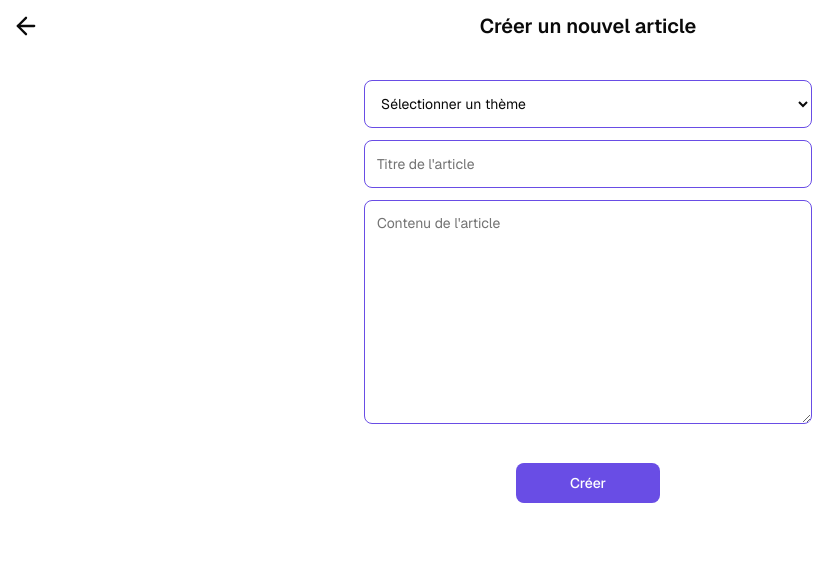
Test: CreateArticleForm › affiche une erreur lorsque le CSRF est refusé
Select "JavaScript" in the dropdown named "thème de l'article" at [588, 104], box x1=364 y1=80 x2=812 y2=128
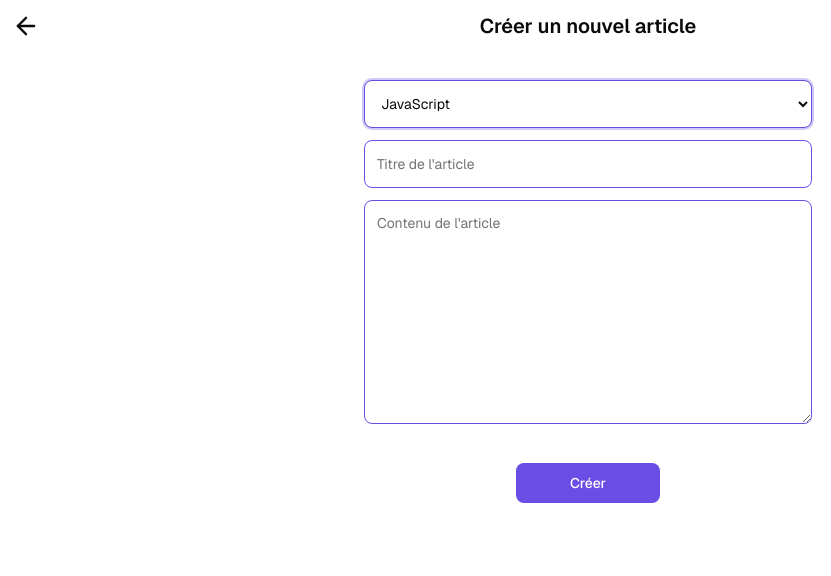
Type "Pourquoi utiliser TypeScript ?" into the field labelled "Titre de l'article" at [588, 164], box x1=364 y1=140 x2=812 y2=188
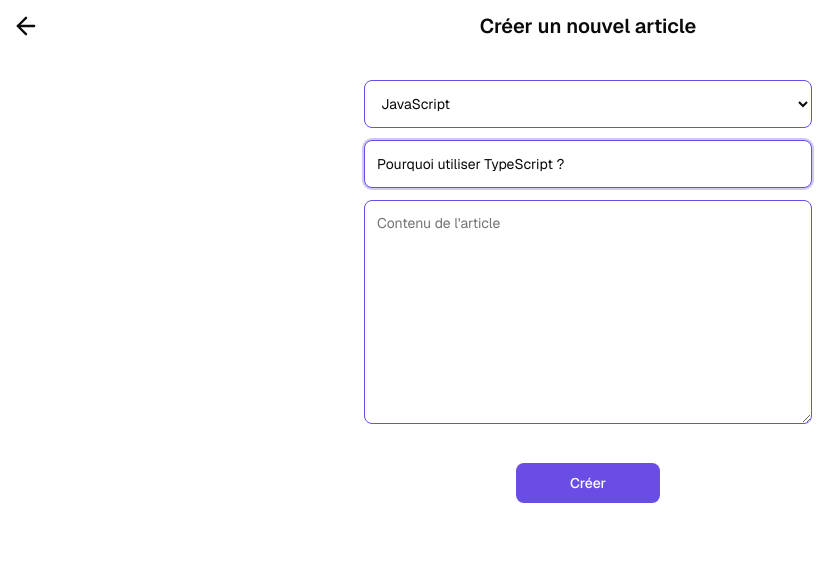
Type "TypeScript apporte un typage statique utile aux projets JavaScript." into the text box labelled "Contenu de l'article" at [588, 312], box x1=364 y1=200 x2=812 y2=424
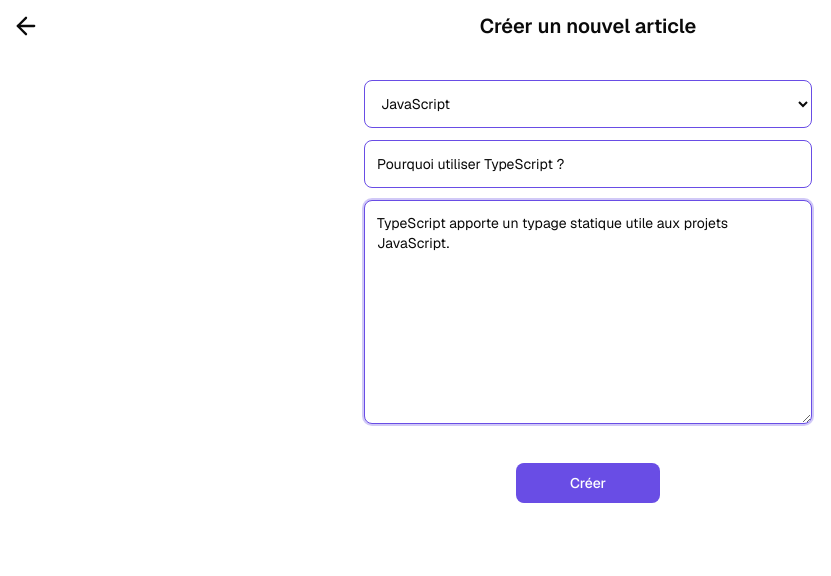
Click the button "Créer" at [588, 483], box x1=516 y1=463 x2=660 y2=503
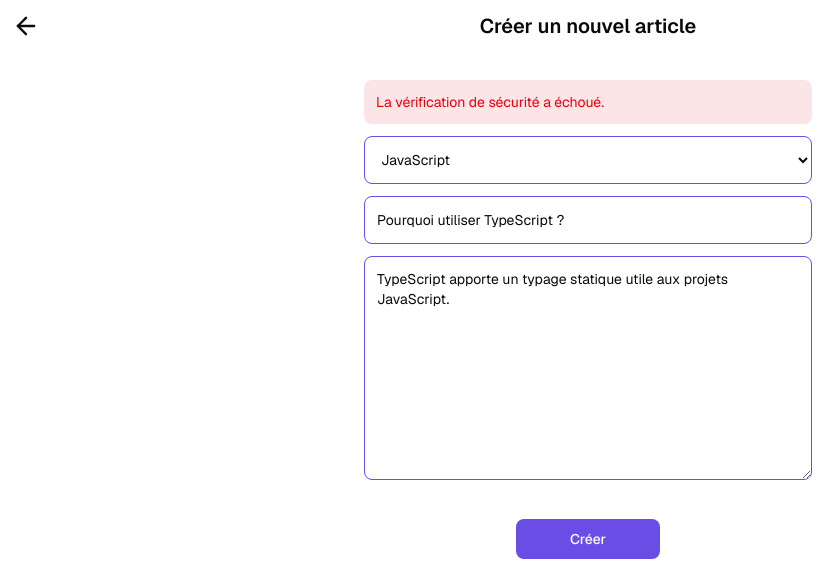
Expected: the message reads "La vérification de sécurité a échoué.", x1=376 y1=93 x2=604 y2=111
